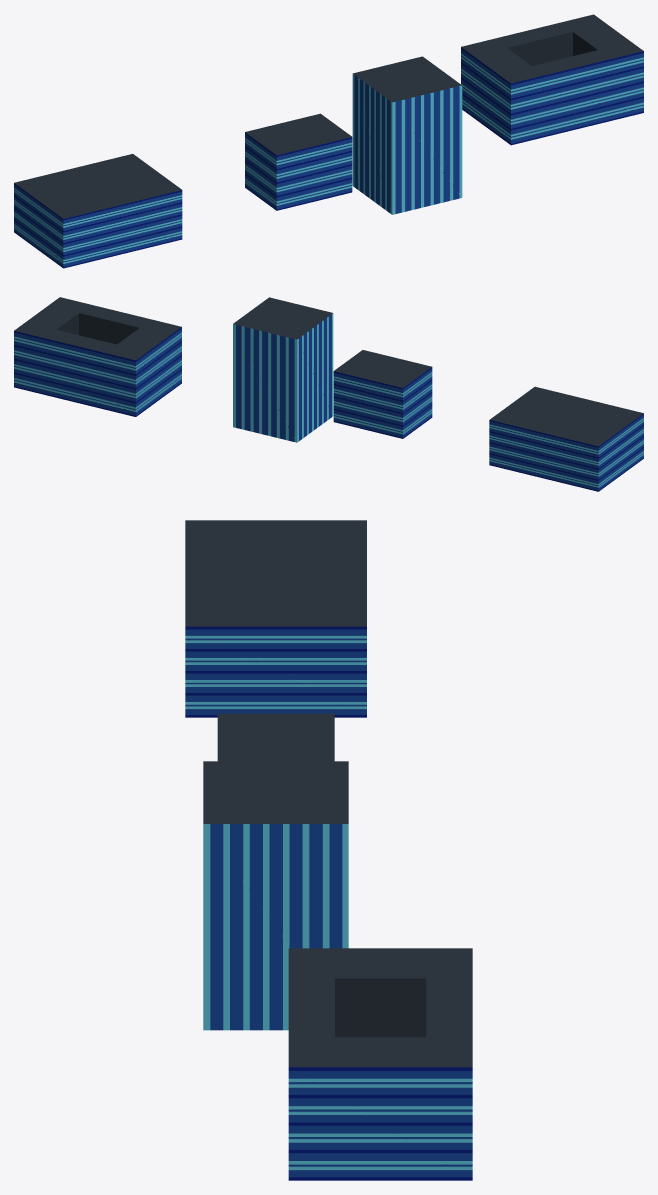
Rendered from house.fbx.
3 renders of one model, top to bottom at view 1: azimuth 30°, elevation 25°; view 2: azimuth 150°, elevation 25°; view 3: azimuth 270°, elevation 25°, orthographic. The views are drawn at different scales.
Visible parts, largest first — view 1: house3, house1, house2, house; view 2: house3, house1, house2, house; view 3: house3, house2, house1, house.
Boxes of the visible parts, x1,y1,x2,y2 form: house3: (461, 14, 643, 145); house1: (352, 56, 462, 214); house2: (14, 154, 182, 268); house: (245, 113, 352, 210); house3: (14, 297, 181, 416); house1: (233, 297, 333, 442); house2: (489, 386, 643, 491); house: (333, 350, 432, 438); house3: (288, 948, 472, 1180); house2: (185, 520, 366, 717); house1: (203, 761, 348, 1030); house: (217, 713, 334, 761).
Size of the model in its own units: 1132 by 200 by 252.
Materials: 3 (2 with a texture image).
